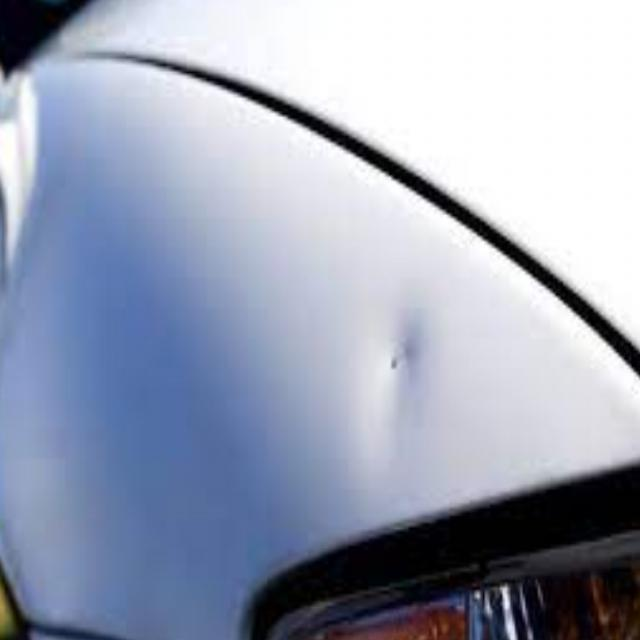dents: (363, 286, 437, 468)
